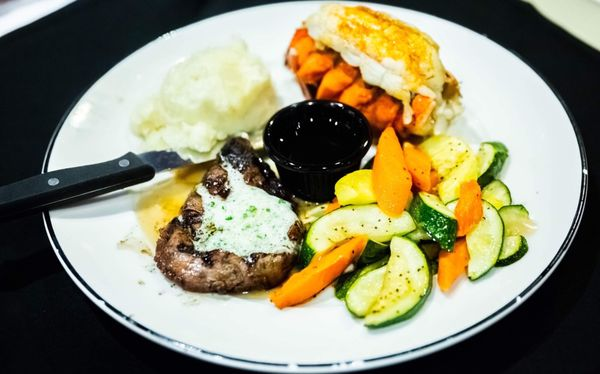curry: (408, 190, 458, 251)
sandwich: (0, 145, 219, 224)
